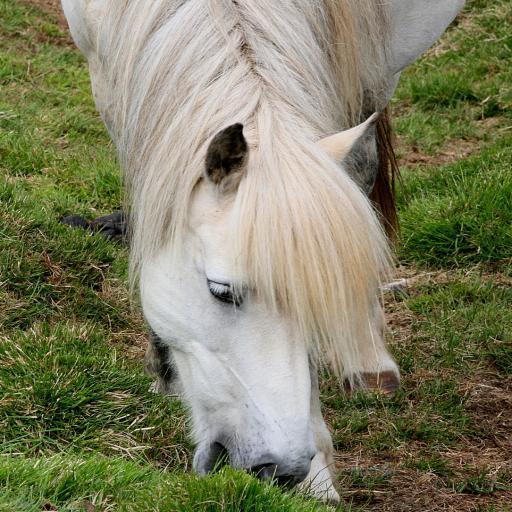horse: (59, 0, 466, 509)
